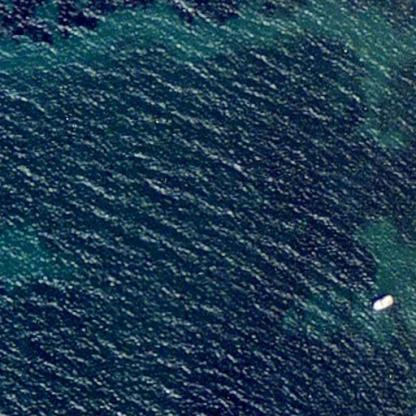ship: (370, 289, 395, 312)
